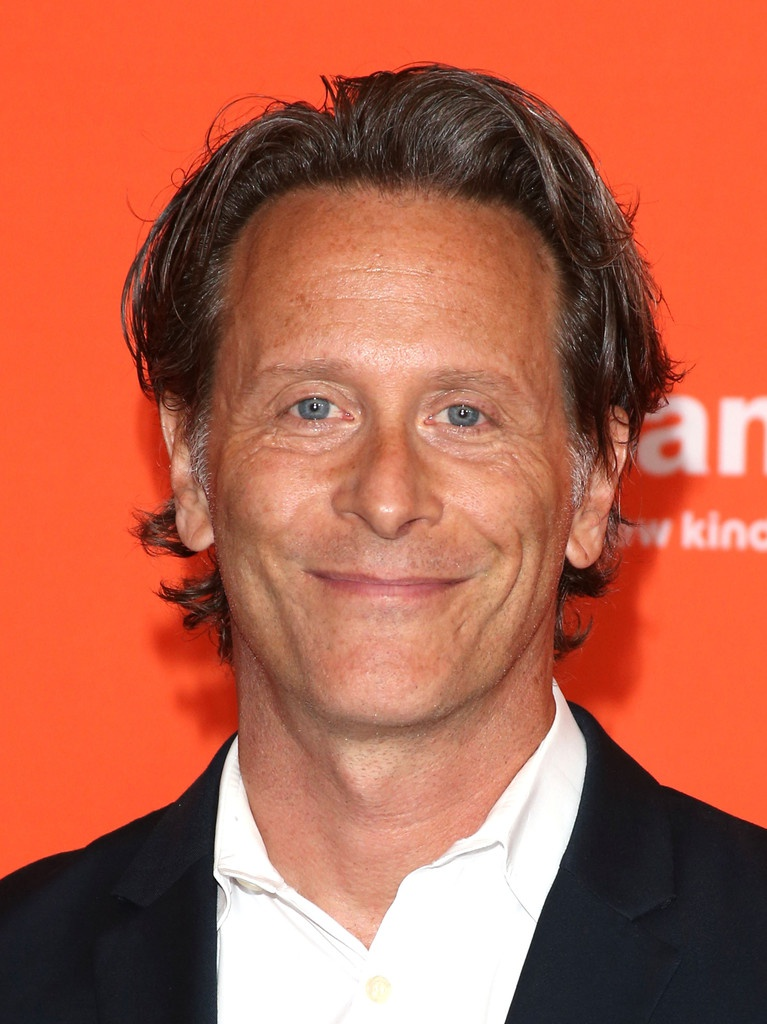bad: (204, 333, 589, 718)
